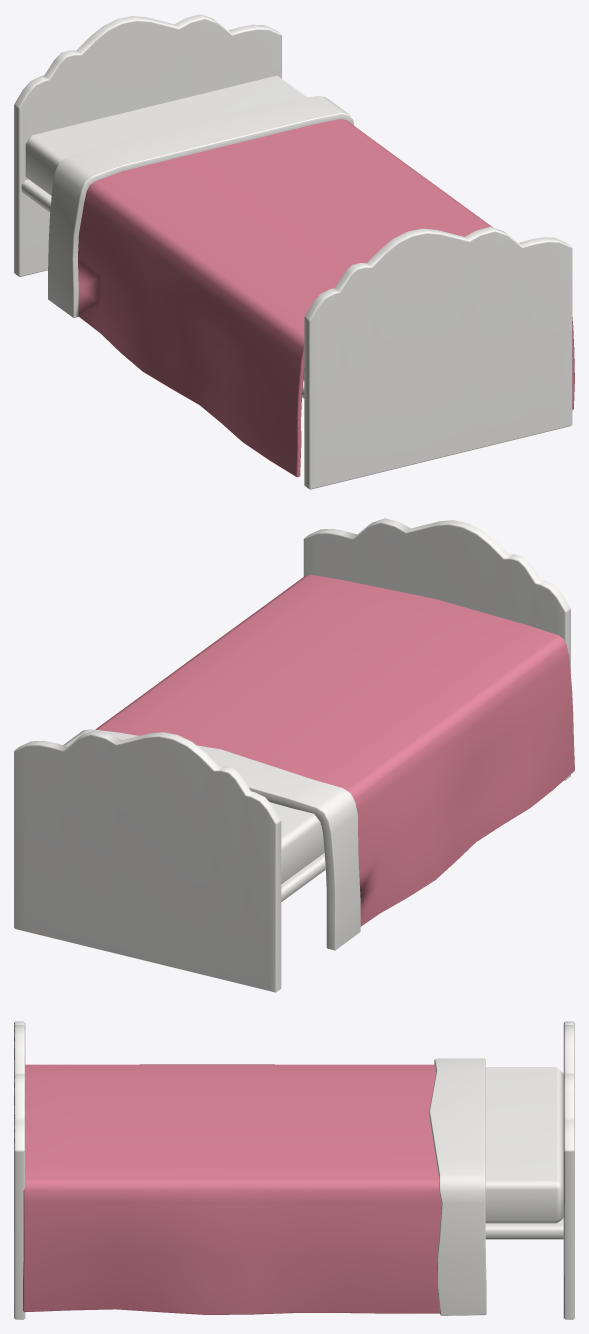
File: Bed_1.glb
3 renders of one model, top to bottom at view 1: azimuth 30°, elevation 25°; view 2: azimuth 150°, elevation 25°; view 3: azimuth 270°, elevation 25°, orthographic. The views are drawn at different scales.
Visible parts, largest first — view 1: Bed_1; view 2: Bed_1; view 3: Bed_1.
Part boxes in pixels (x1=…): Bed_1: x1=14, y1=14, x2=574, y2=489; Bed_1: x1=14, y1=518, x2=574, y2=992; Bed_1: x1=14, y1=1021, x2=574, y2=1319.
Size of the model in its own units: 1.28 by 0.9535 by 2.22.
1 material, 1 textured.
